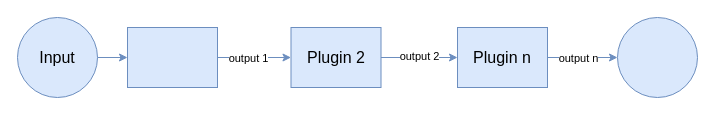
The diagram is 715 pixels wide and 115 high, and some of its shapes have lost their labels. Here are the shapes that lost their labels. From the top down, the box of each, then its label:
(126, 26, 218, 88): Plugin 1
(616, 16, 698, 98): Output
